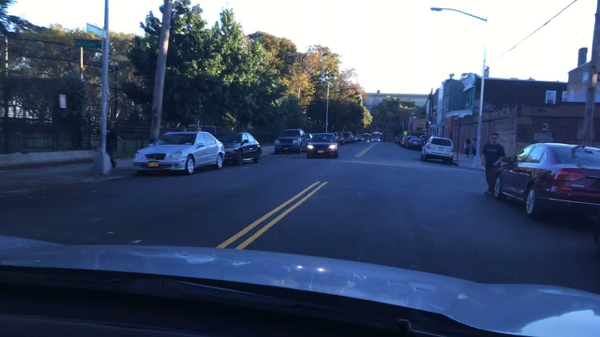bus: (370, 131, 382, 142), (362, 133, 371, 142)
car: (493, 142, 599, 220), (132, 131, 226, 176), (215, 132, 262, 165), (420, 135, 453, 164), (273, 127, 308, 154), (305, 132, 338, 158), (407, 138, 422, 151), (327, 131, 339, 144), (404, 135, 417, 147), (337, 132, 345, 145), (342, 132, 350, 144), (400, 135, 408, 146), (347, 131, 354, 142), (304, 133, 312, 141), (354, 133, 360, 141), (397, 135, 403, 143), (352, 135, 358, 142), (359, 135, 365, 141), (393, 135, 398, 141)
person: (480, 133, 505, 196), (102, 118, 125, 168), (463, 138, 471, 160), (471, 138, 478, 159)
traffic sign: (85, 23, 108, 38), (73, 38, 103, 49), (58, 94, 67, 109), (403, 131, 407, 136)
